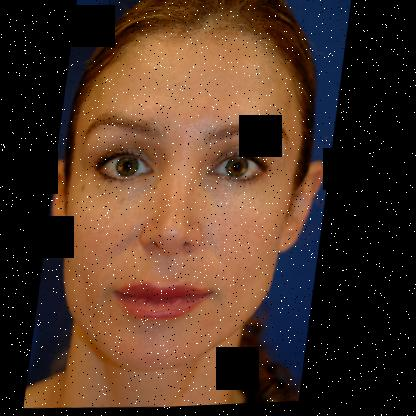Female: (34, 17, 345, 379)
